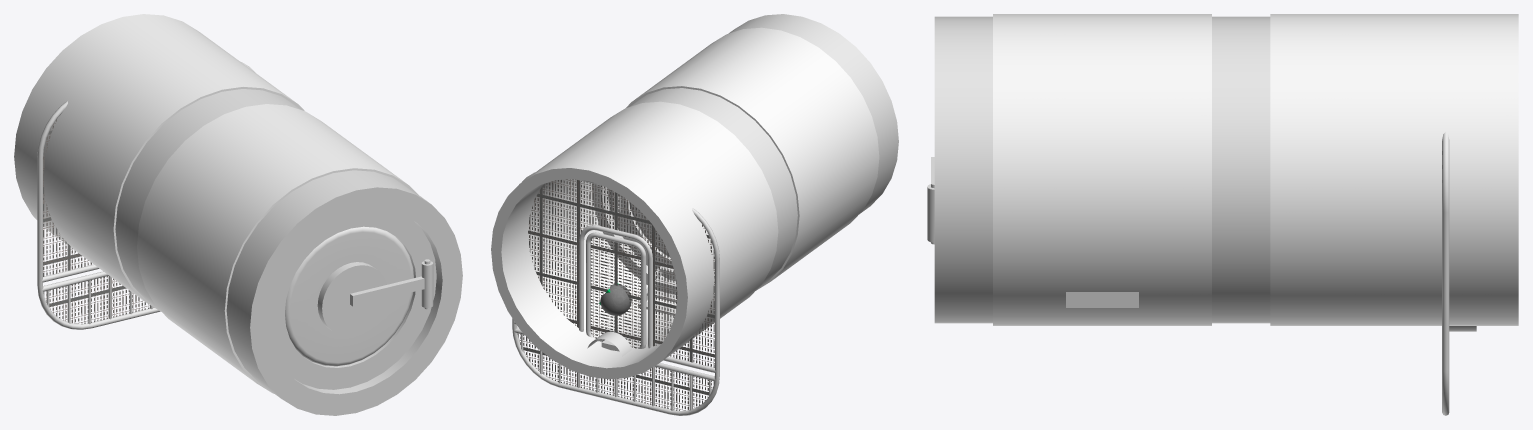
The model's file is interactive_group.fbx.
3 renders of one model, left to right at view 1: azimuth 30°, elevation 25°; view 2: azimuth 150°, elevation 25°; view 3: azimuth 270°, elevation 25°, orthographic. The views are drawn at different scales.
Visible parts, largest first — view 1: plasteel_combined, chrome_combined, airlock_outer_door, pCylinder47, pTorus29; view 2: plasteel_combined, chrome_combined, pTorus29, pCylinder47, pTorus30, pTorus16, terminal_base, airlock_inner_door, base; view 3: plasteel_combined, chrome_combined, pCylinder47, codebox_box.
Part boxes in pixels (box(x1,y1,x2,y2)): plasteel_combined: box(14, 14, 418, 393); chrome_combined: box(115, 89, 462, 415); airlock_outer_door: box(285, 226, 424, 366); pCylinder47: box(37, 61, 255, 329); pTorus29: box(43, 119, 153, 324); plasteel_combined: box(491, 27, 879, 379); chrome_combined: box(592, 14, 898, 315); pTorus29: box(517, 179, 714, 410); pCylinder47: box(512, 172, 719, 415); pTorus30: box(590, 237, 640, 348); pTorus16: box(586, 232, 646, 349); terminal_base: box(600, 284, 631, 315); airlock_inner_door: box(618, 194, 670, 257); base: box(587, 331, 631, 356); plasteel_combined: box(993, 14, 1518, 325); chrome_combined: box(927, 16, 1270, 323); pCylinder47: box(1442, 132, 1449, 415); codebox_box: box(1066, 292, 1138, 307).
Size of what is drawn, in the model's own units: 5.62 by 6.48 by 10.12.
8 materials, 2 textured.
